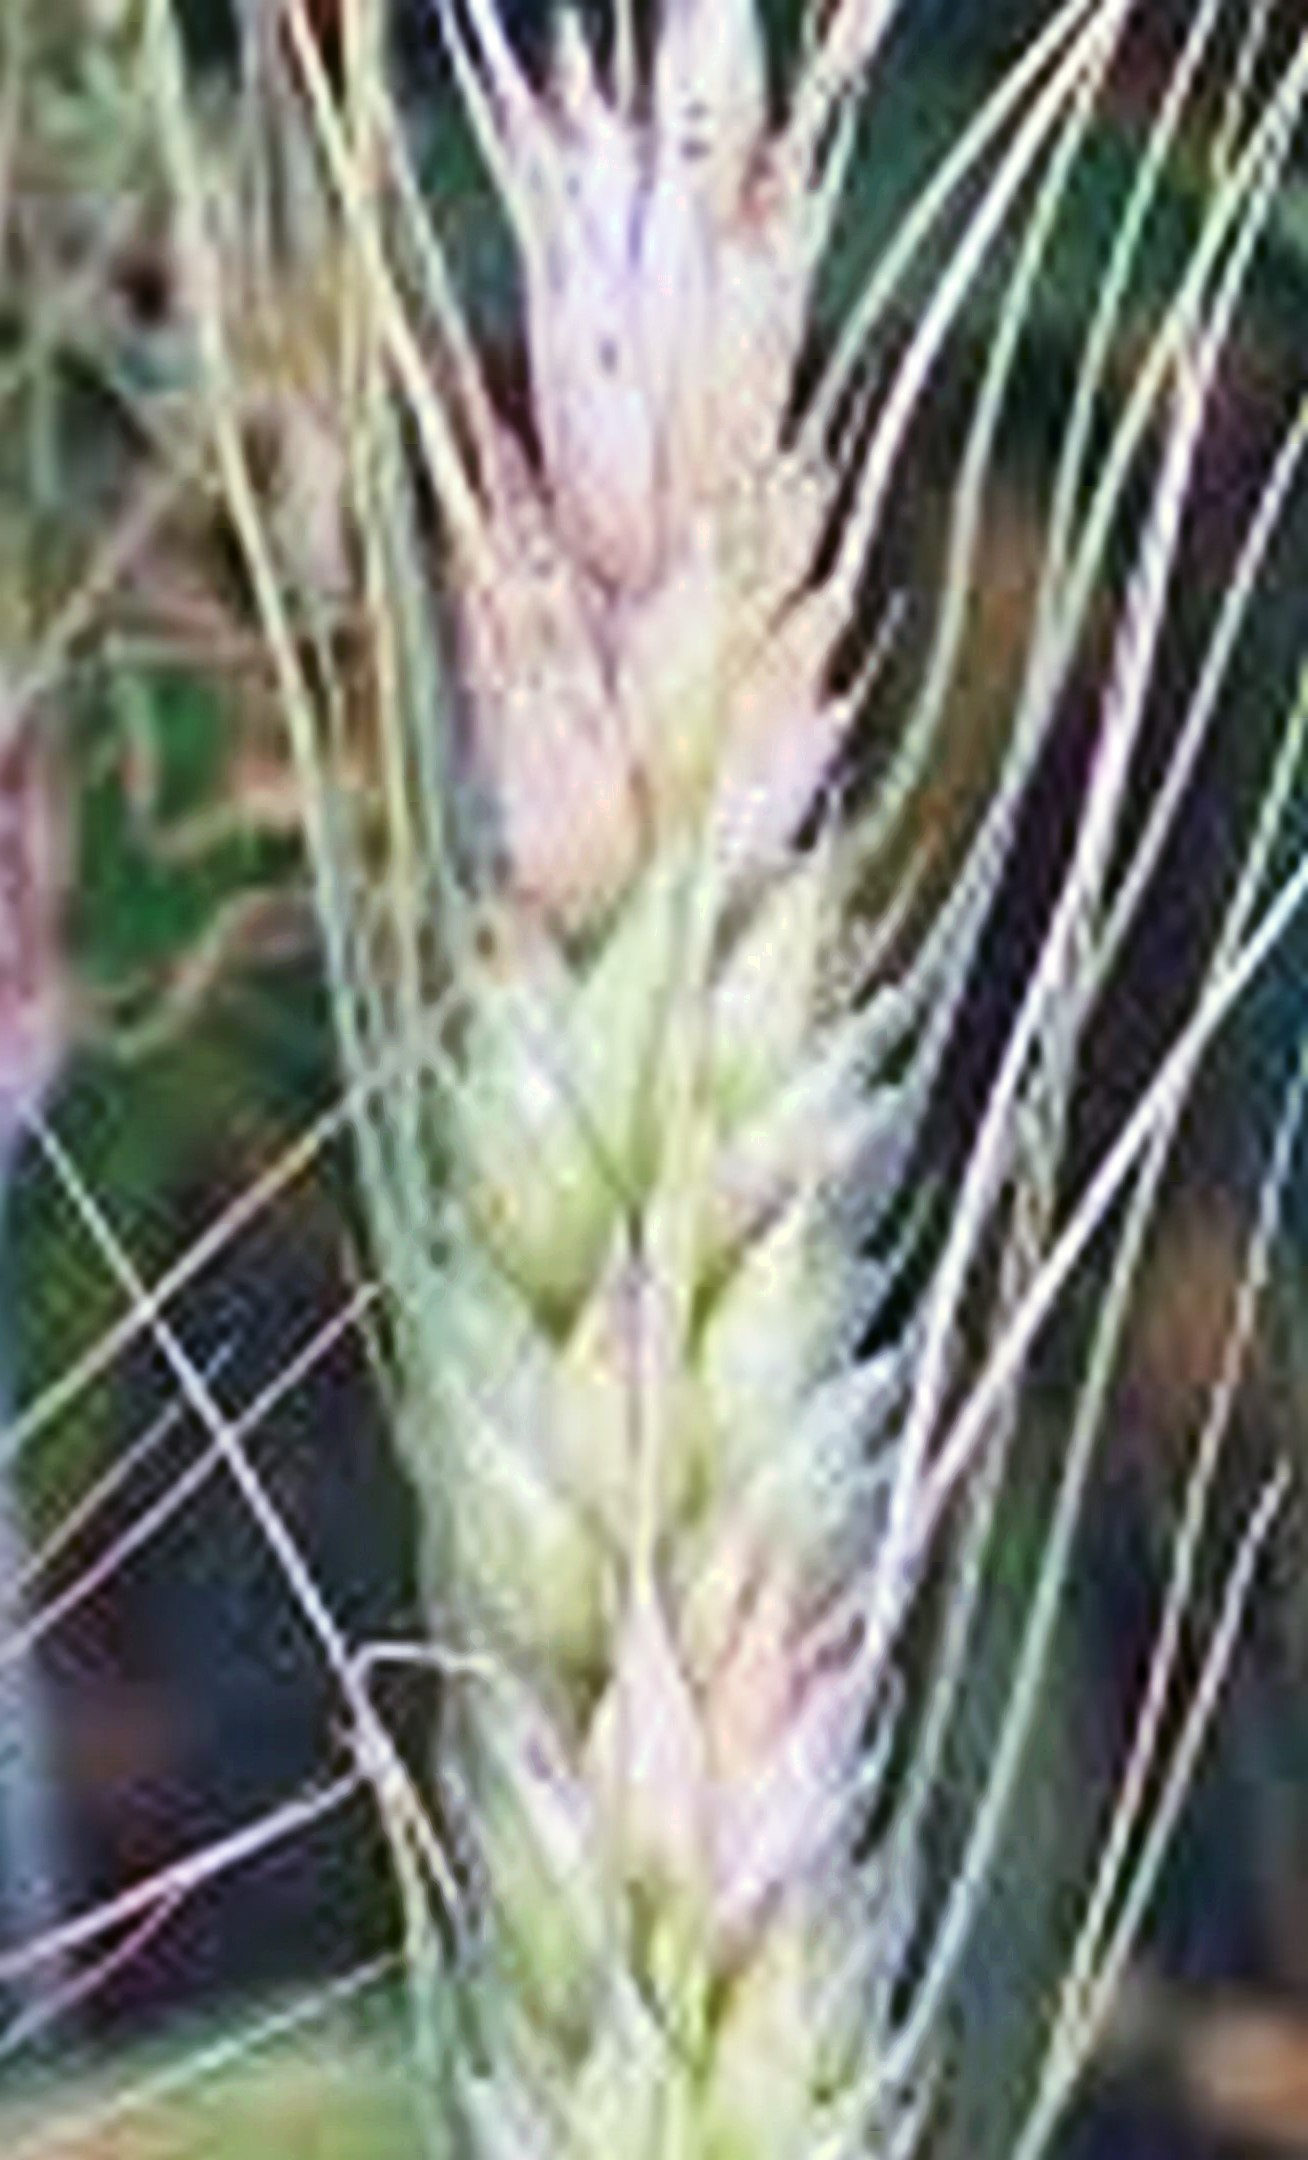Wheat scab: (304, 62, 1006, 2135)
